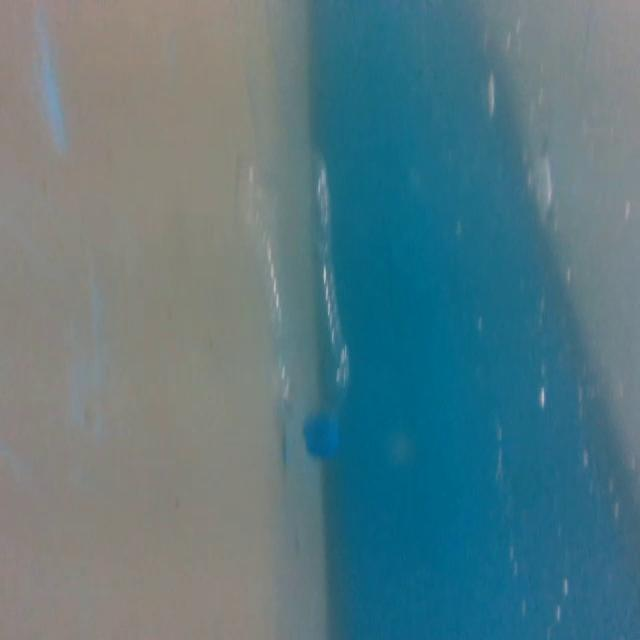plastic bottle: (237, 142, 372, 468)
